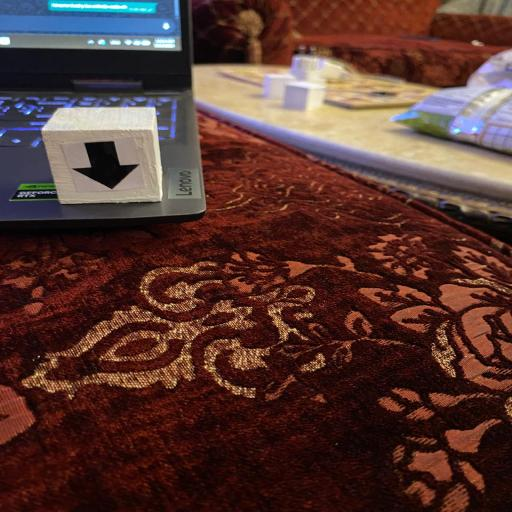Down: (38, 106, 166, 206)
